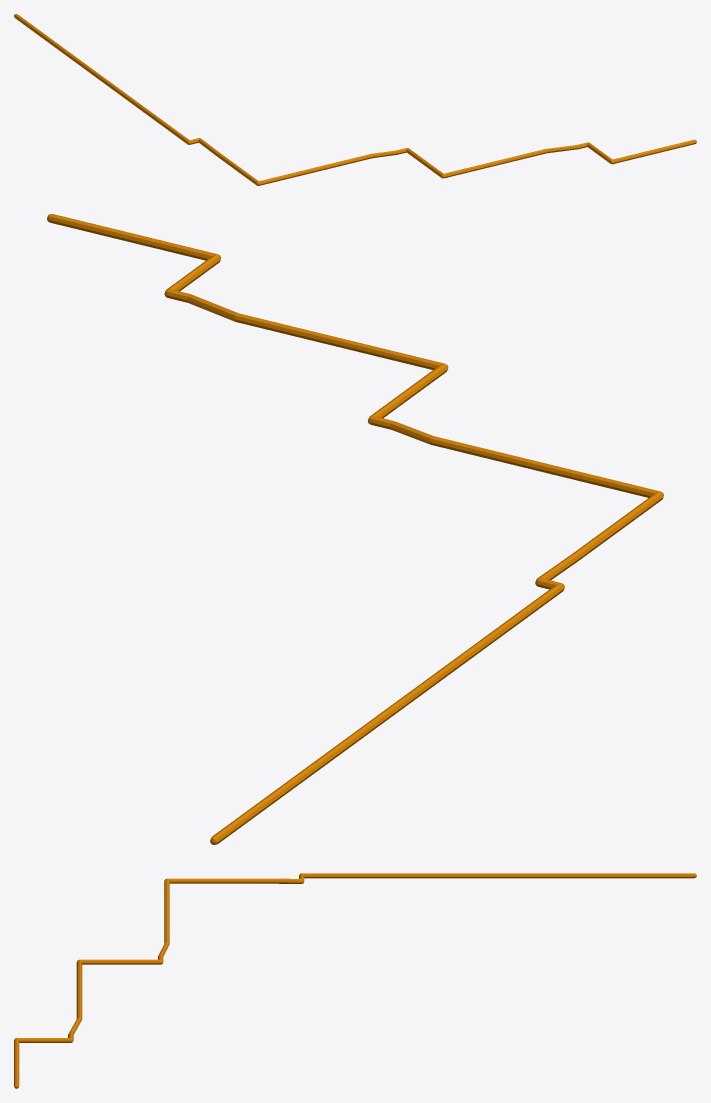
3 renders of one model, top to bottom at view 1: azimuth 30°, elevation 25°; view 2: azimuth 150°, elevation 25°; view 3: azimuth 270°, elevation 25°, orthographic. The views are drawn at different scales.
Size of the model in its own units: 1860 by 20 by 2523.
